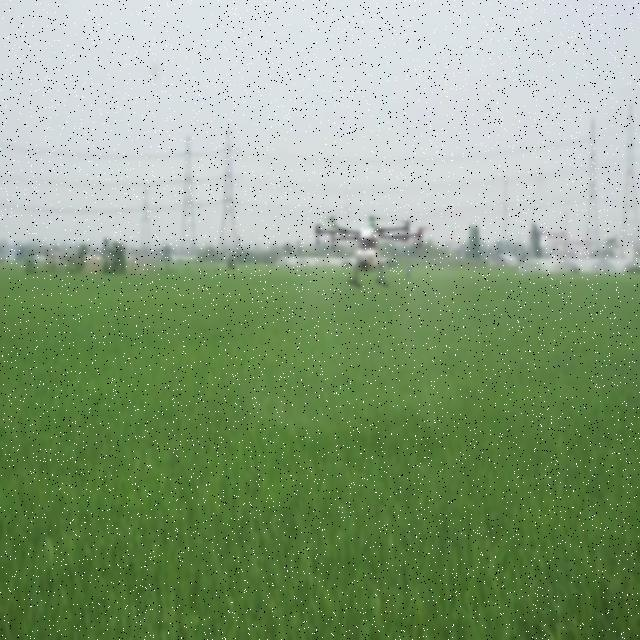UAV: (313, 212, 425, 292)
